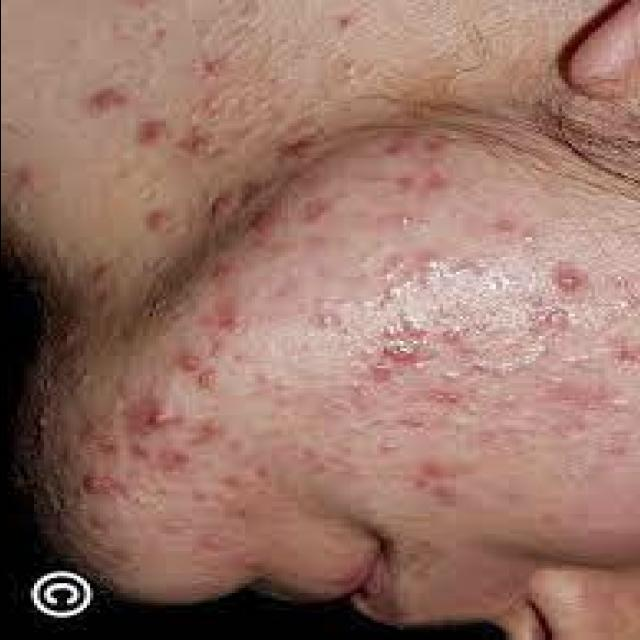Acne: (119, 397, 187, 438), (378, 317, 432, 365), (409, 460, 457, 507), (84, 84, 132, 122), (182, 122, 216, 158), (136, 116, 173, 148), (78, 468, 116, 498), (552, 268, 588, 296), (172, 348, 210, 374), (157, 449, 193, 475), (614, 341, 640, 376), (190, 57, 227, 81), (366, 358, 398, 384), (145, 209, 176, 234), (422, 168, 451, 194), (541, 307, 571, 331)
